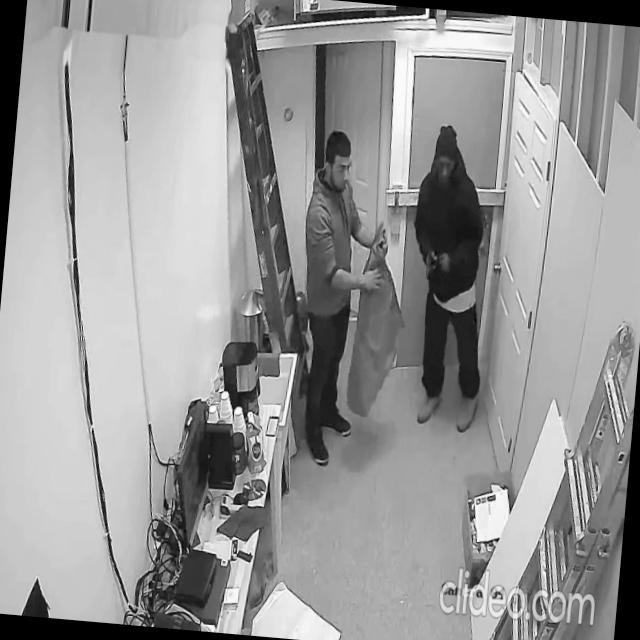gun: (423, 242, 438, 284)
person: (284, 126, 396, 473)
person with a gun: (396, 120, 504, 437)
